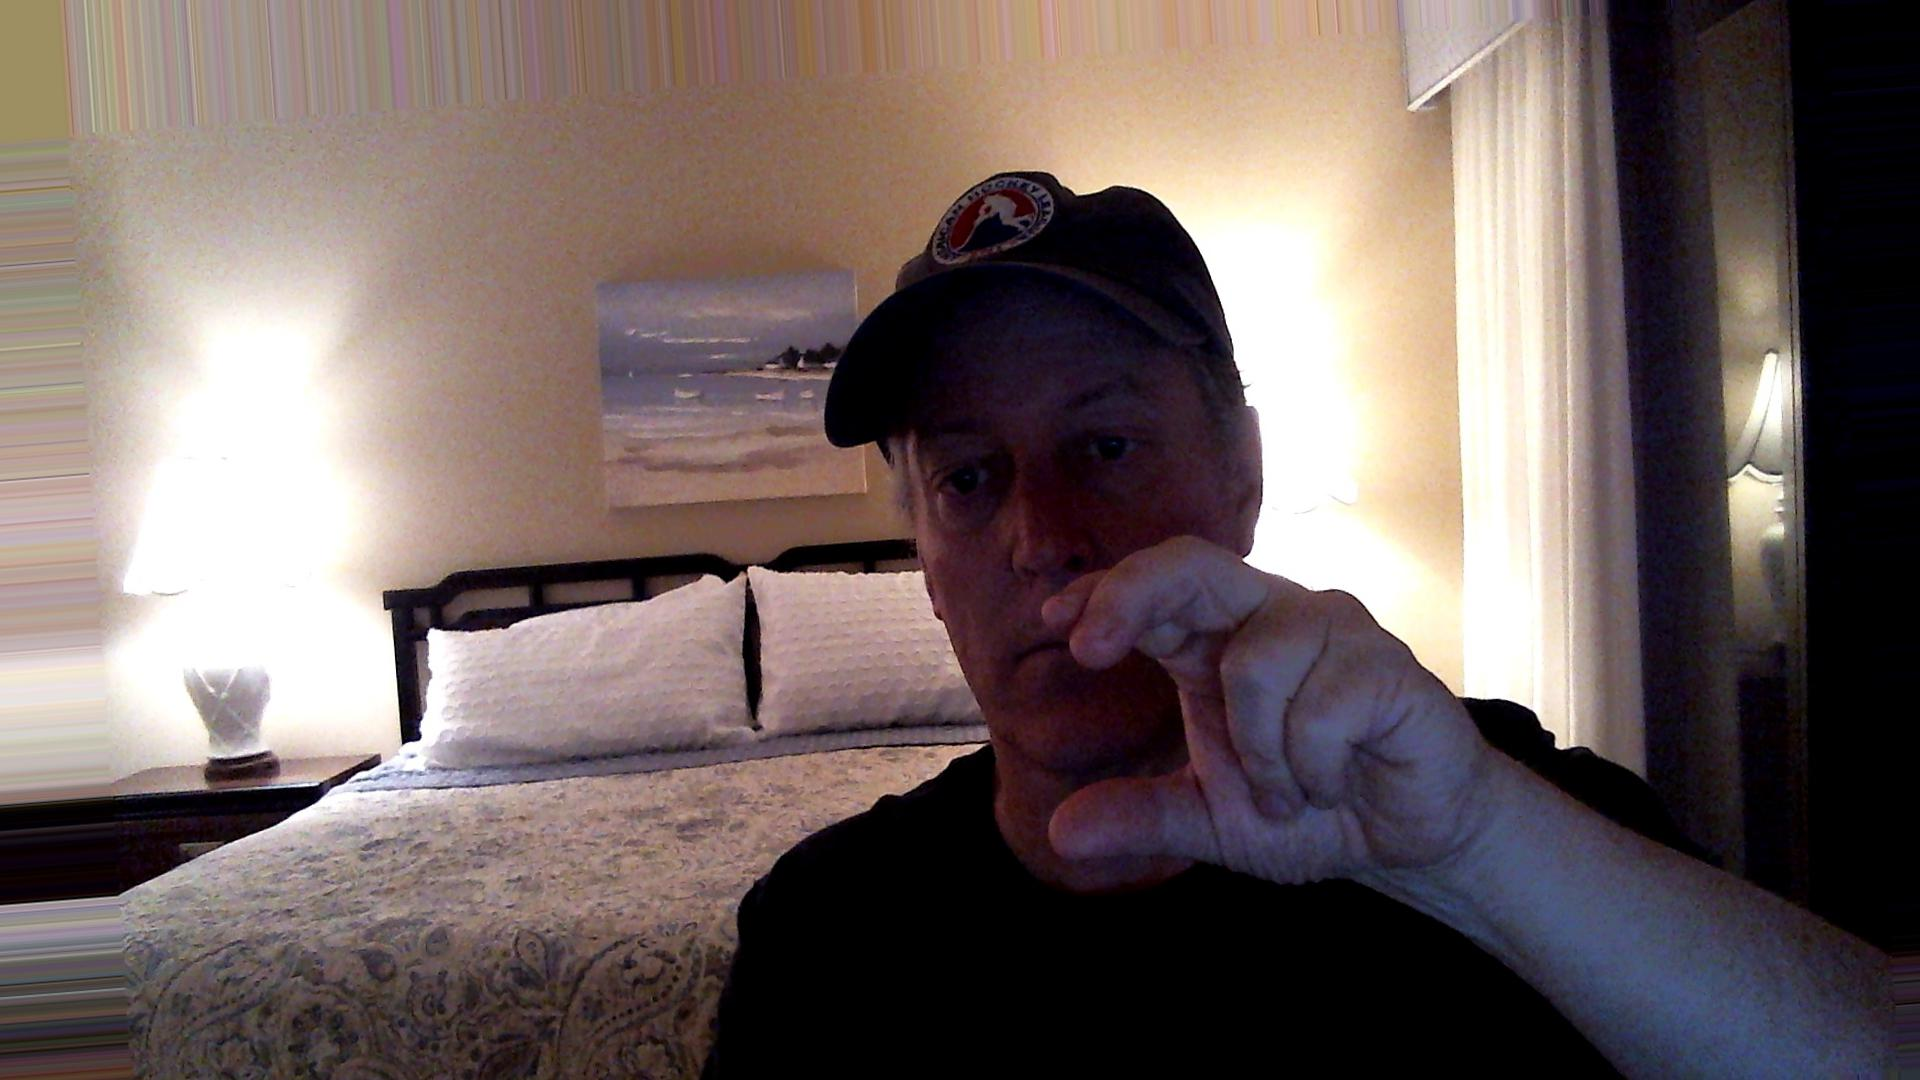No: (1025, 522, 1553, 918)
